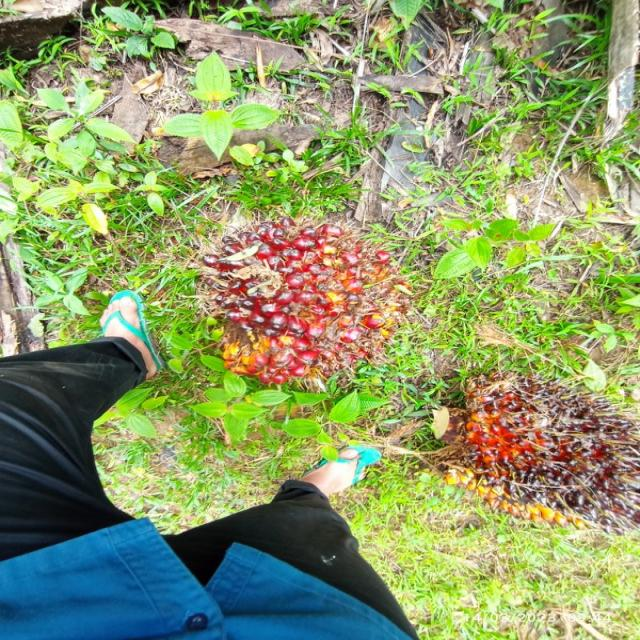fraksi 00: (423, 341, 640, 554)
fraksi 1: (148, 177, 448, 400)
